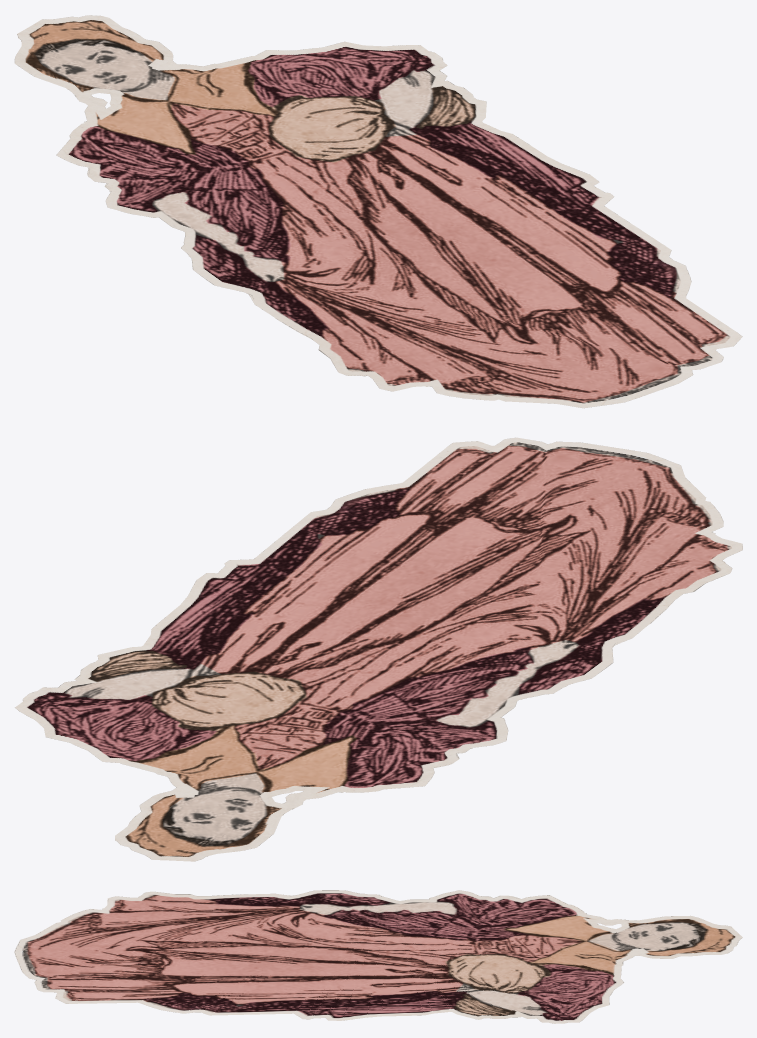
Rendered from Lizzy.fbx.
3 renders of one model, top to bottom at view 1: azimuth 30°, elevation 25°; view 2: azimuth 150°, elevation 25°; view 3: azimuth 270°, elevation 25°, orthographic. The views are drawn at different scales.
Parts seen in each view (by area): view 1: BézierCurve; view 2: BézierCurve; view 3: BézierCurve.
Part boxes in pixels (x1,y1,x2,y2): BézierCurve: (14, 15, 742, 408); BézierCurve: (15, 437, 742, 861); BézierCurve: (14, 890, 742, 1023).
Bounding box in the file's own units: 217 × 8.14e-05 × 500.
